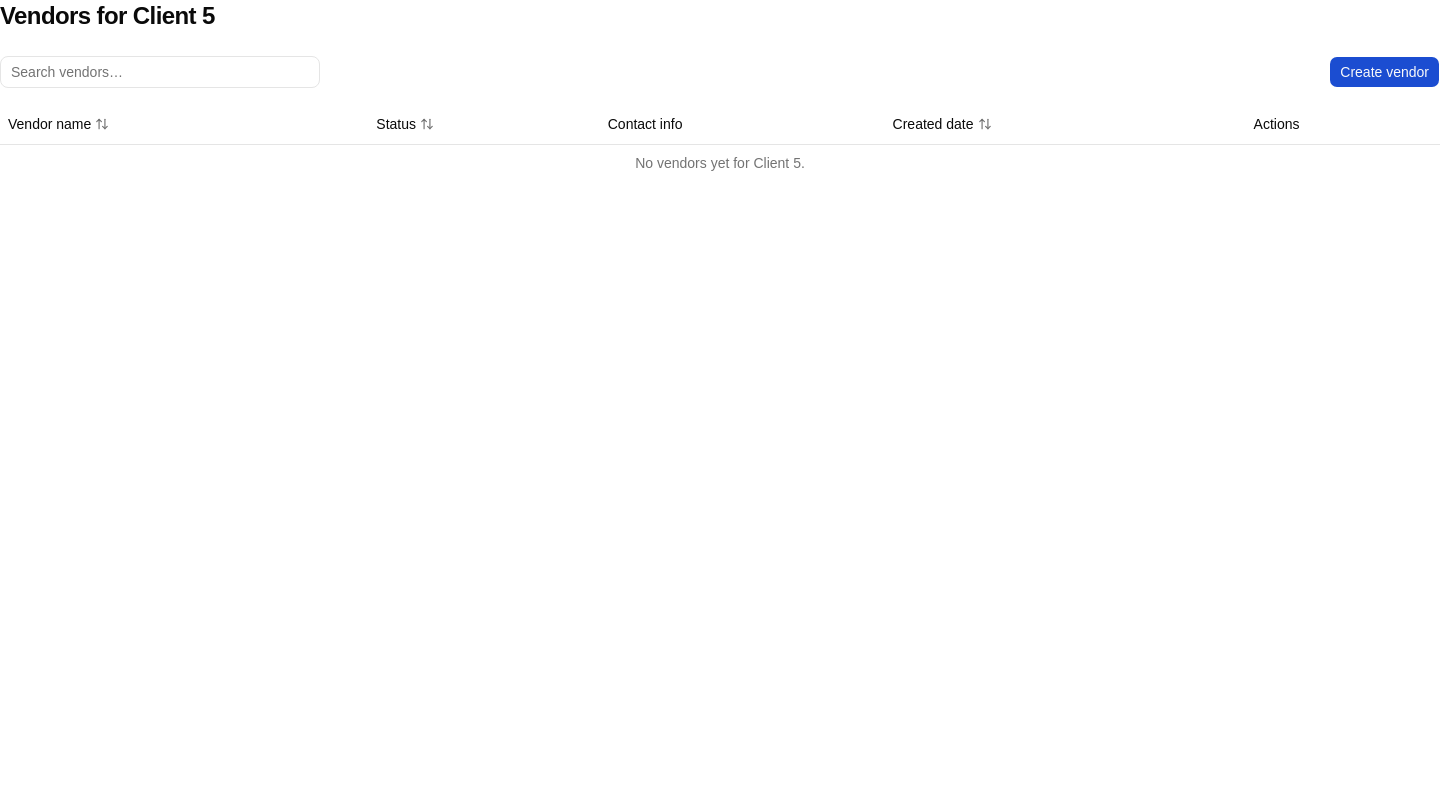
Test: VendorsPage › AC: Disable/Enable toggles this vendor status
Click the button "Create vendor".
click(1385, 72)  # box [1329,56,1439,88]
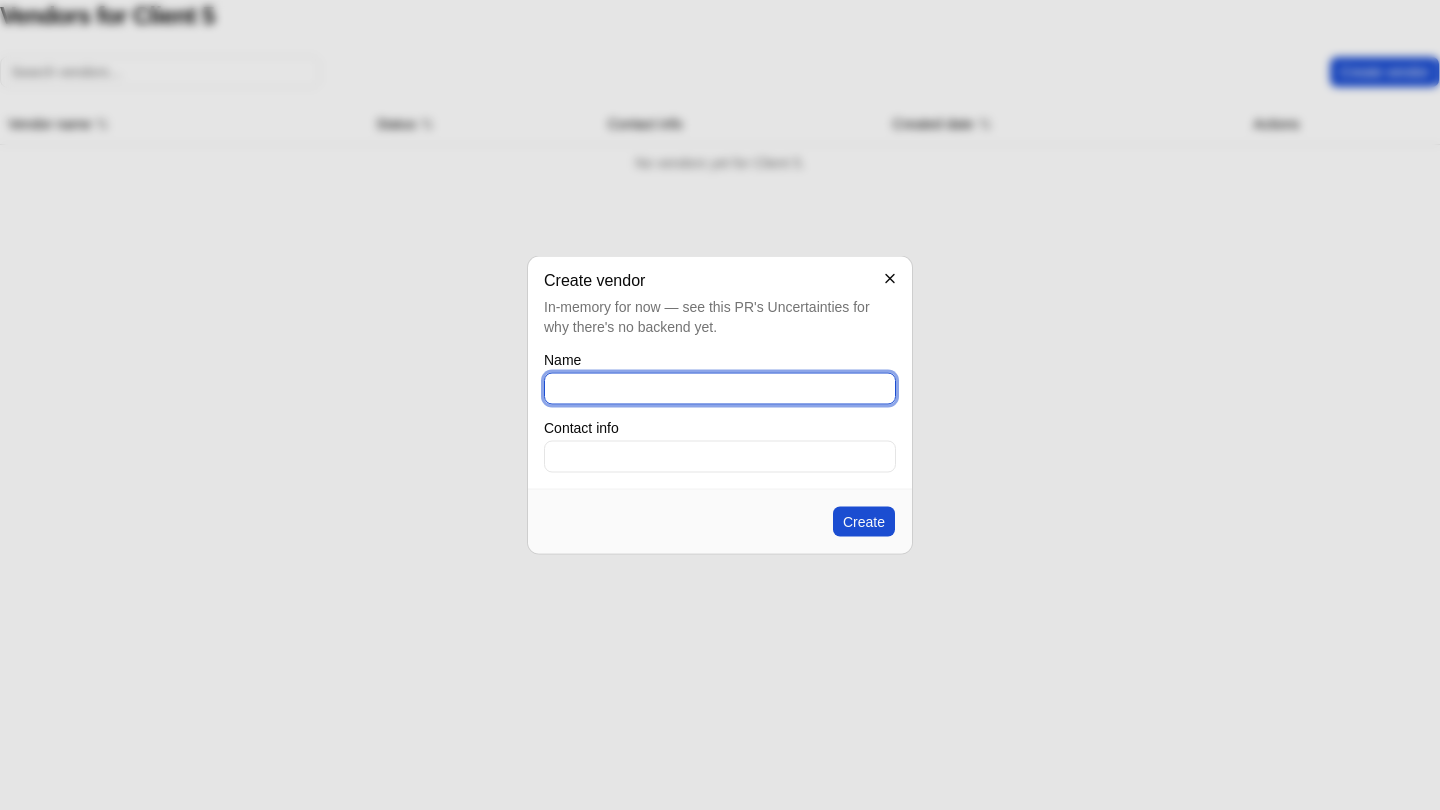
Type "Acme Trucking" into the field labelled "Name".
click(720, 388); type("Acme Trucking")  # box [544,372,896,404]
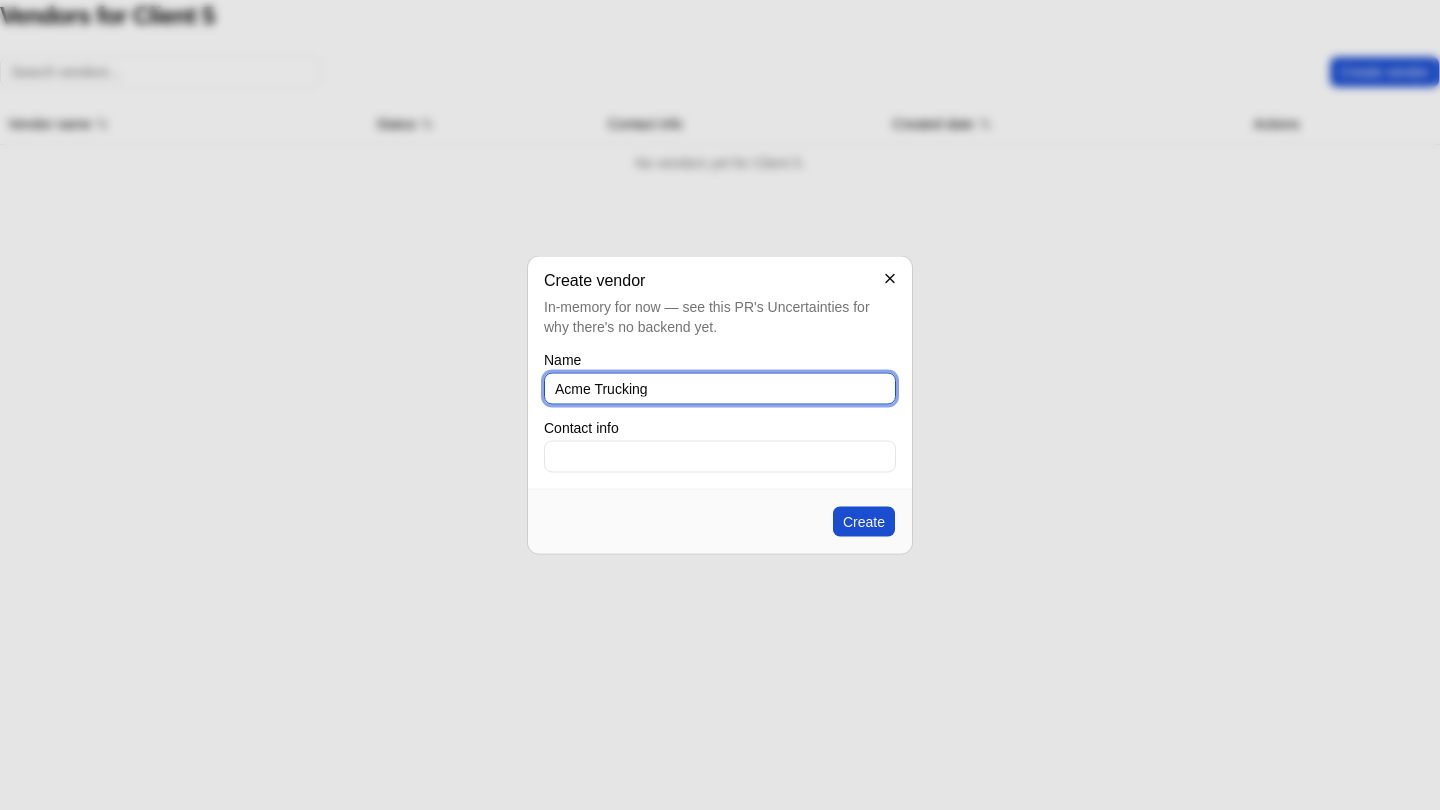
Click the button "Create".
click(864, 522)  # box [832,506,896,538]
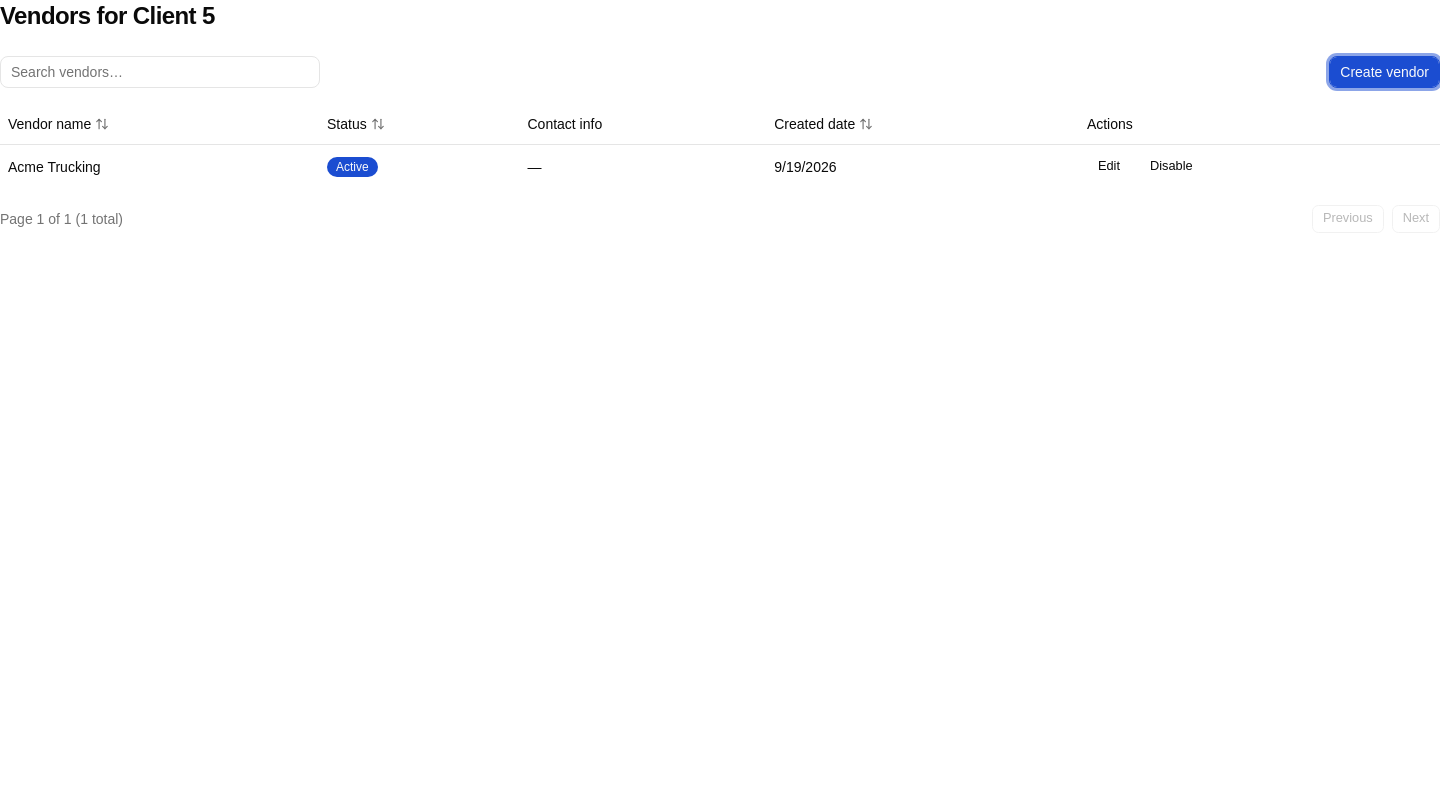
Click the button "Disable".
click(1171, 166)  # box [1139,152,1204,180]
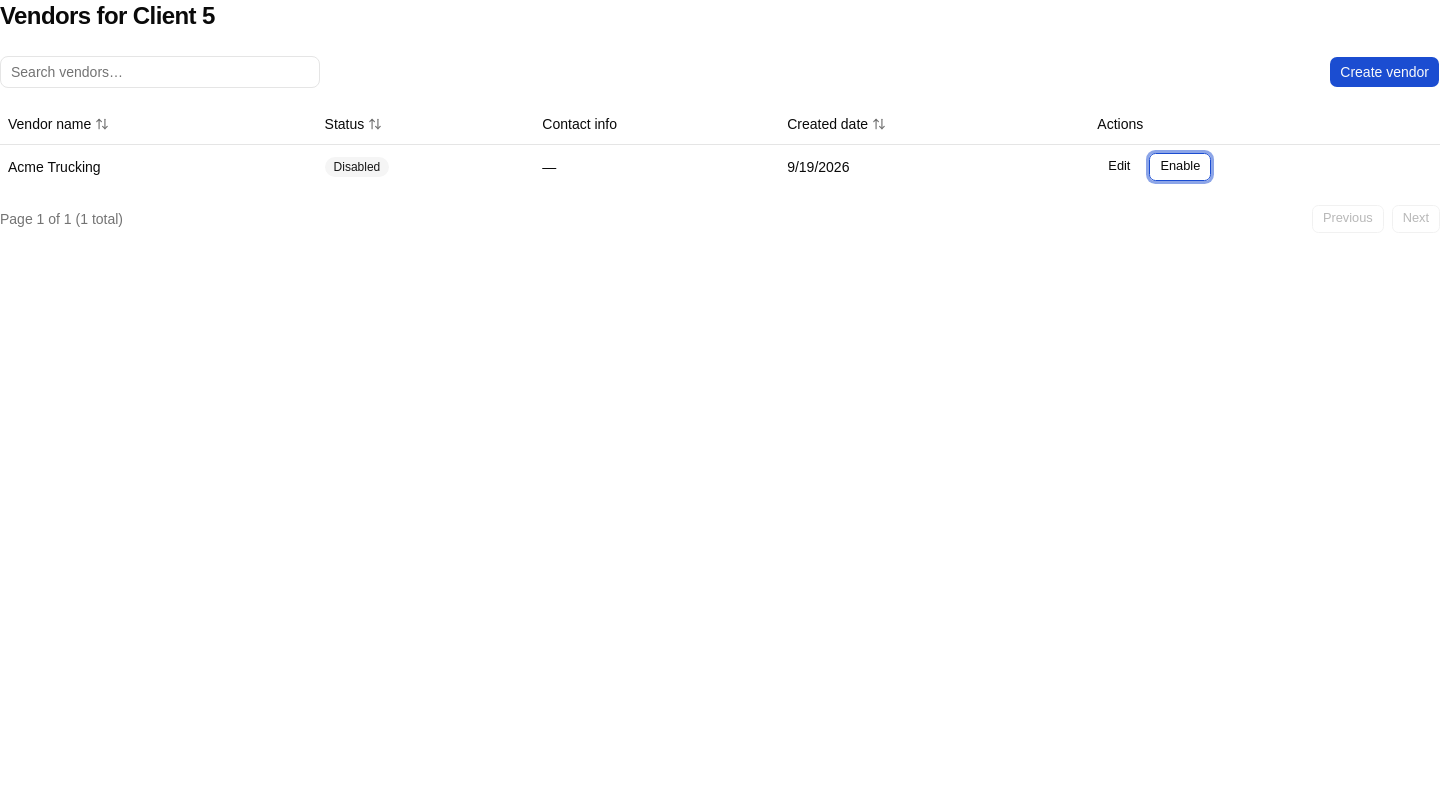
Result: the text "Disabled" is shown at [324,157,389,177]
